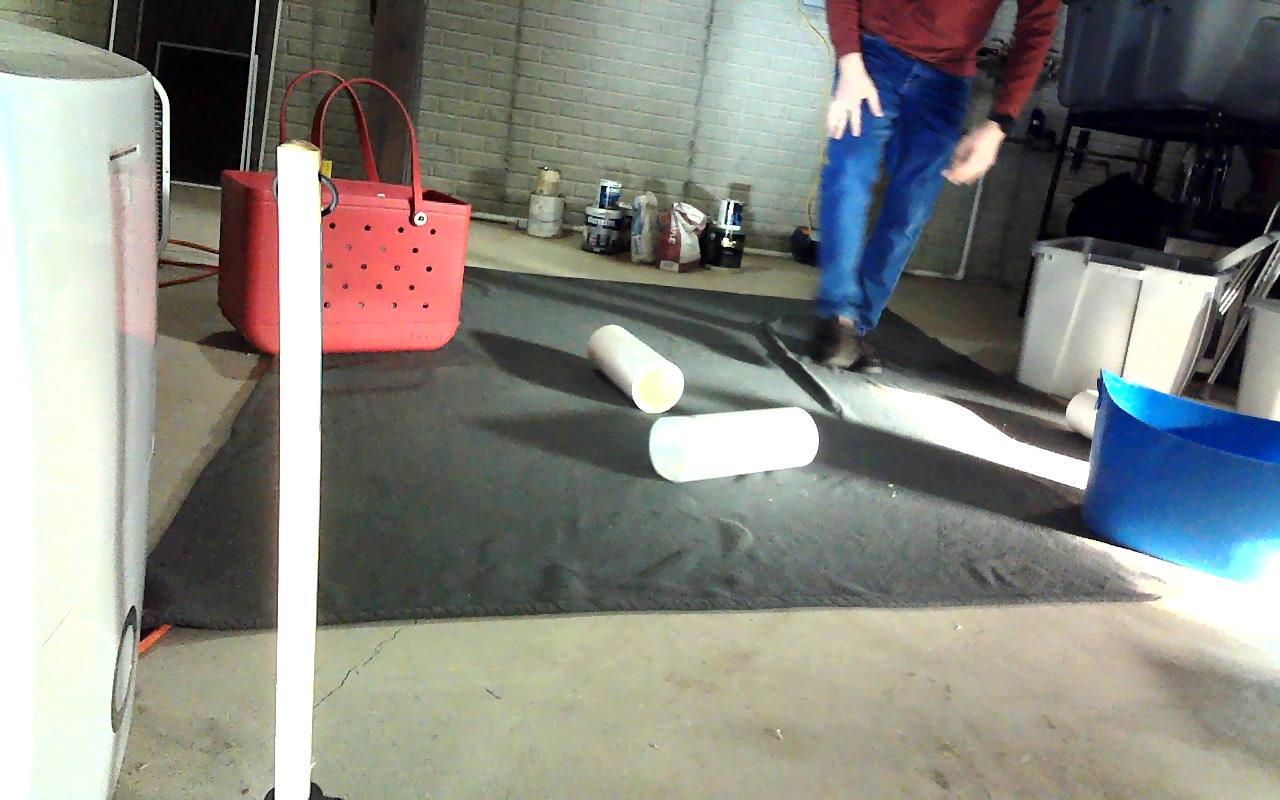coral: (650, 407, 817, 482), (589, 324, 685, 411)
